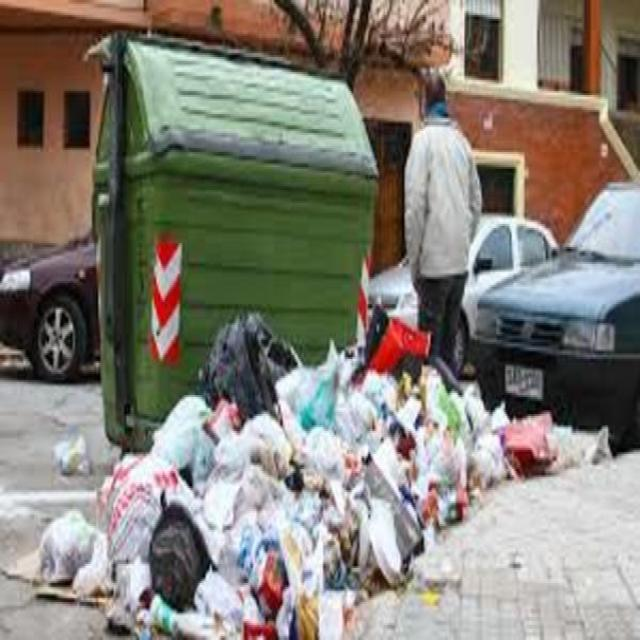garbage: (42, 496, 358, 638), (214, 328, 431, 500), (66, 410, 234, 503), (6, 508, 104, 614), (428, 376, 488, 486), (496, 412, 600, 475)
